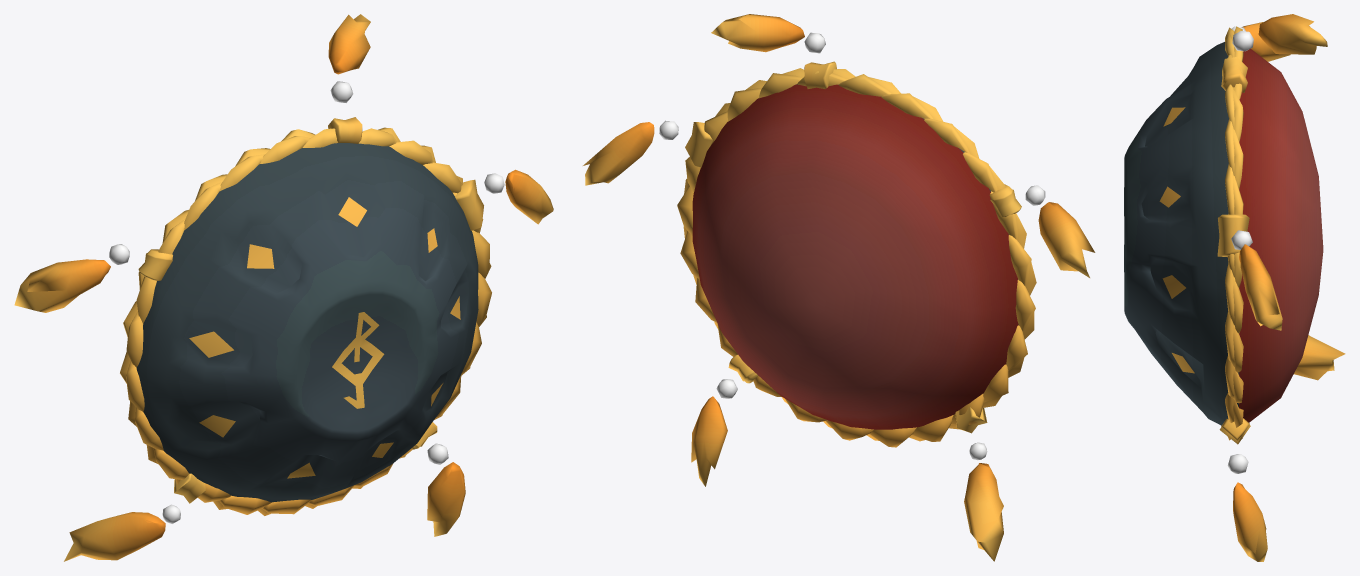
File: CharSkyKid_Prop_AP07HandPan_02.glb
3 renders of one model, left to right at view 1: azimuth 30°, elevation 25°; view 2: azimuth 150°, elevation 25°; view 3: azimuth 270°, elevation 25°, orthographic. The views are drawn at different scales.
Visible parts, largest first — view 1: CharSkyKid_Prop_AP07HandPan_02; view 2: CharSkyKid_Prop_AP07HandPan_02; view 3: CharSkyKid_Prop_AP07HandPan_02.
Boxes of the visible parts, box(x1,y1,x2,y2) form: CharSkyKid_Prop_AP07HandPan_02: box(14, 14, 553, 561); CharSkyKid_Prop_AP07HandPan_02: box(583, 14, 1095, 561); CharSkyKid_Prop_AP07HandPan_02: box(1124, 14, 1345, 561).
Bounding box in the file's own units: 5.64 × 5.26 × 2.07.
Materials: 1 (1 with a texture image).
